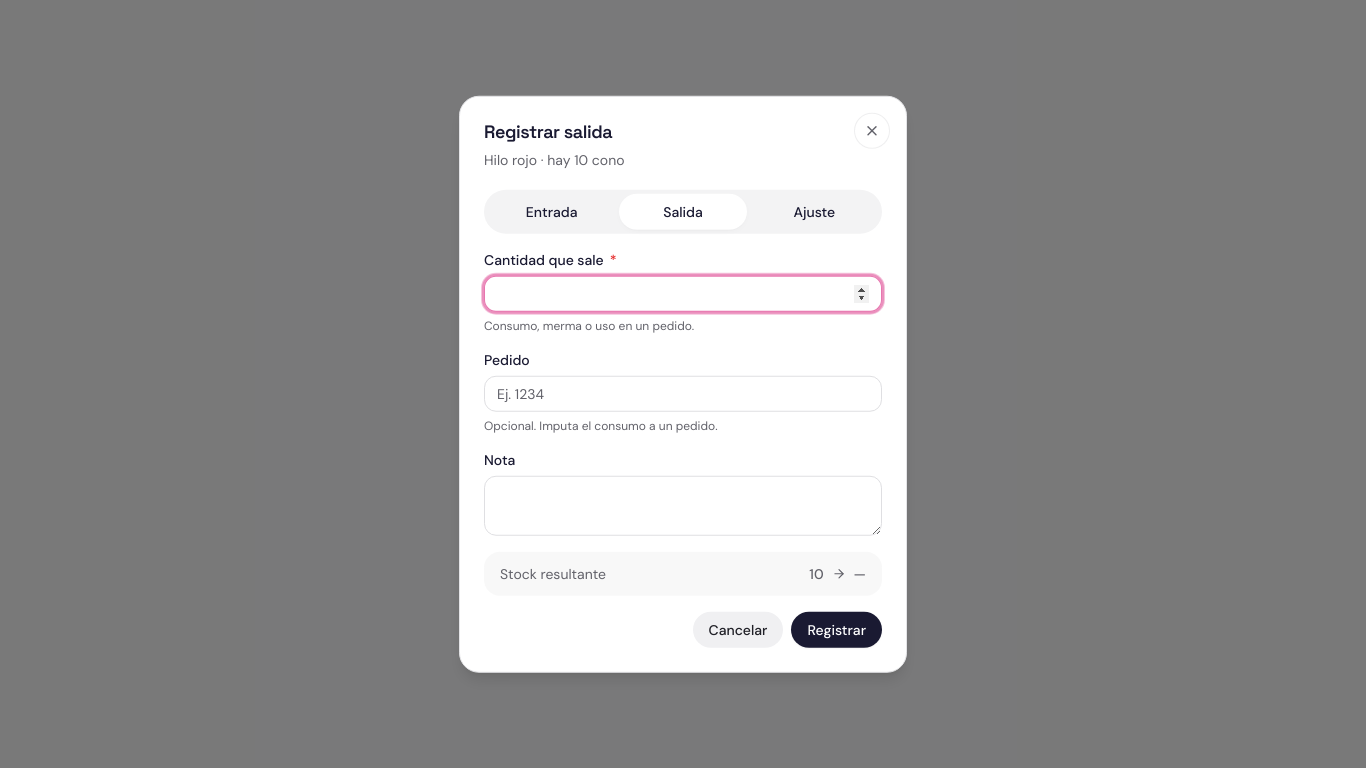
InventoryMovementDialog › no deja sacar más de lo que hay
Type "11" into the number field labelled "Cantidad que sale *". click: (683, 293)
box: [484,275,882,311]
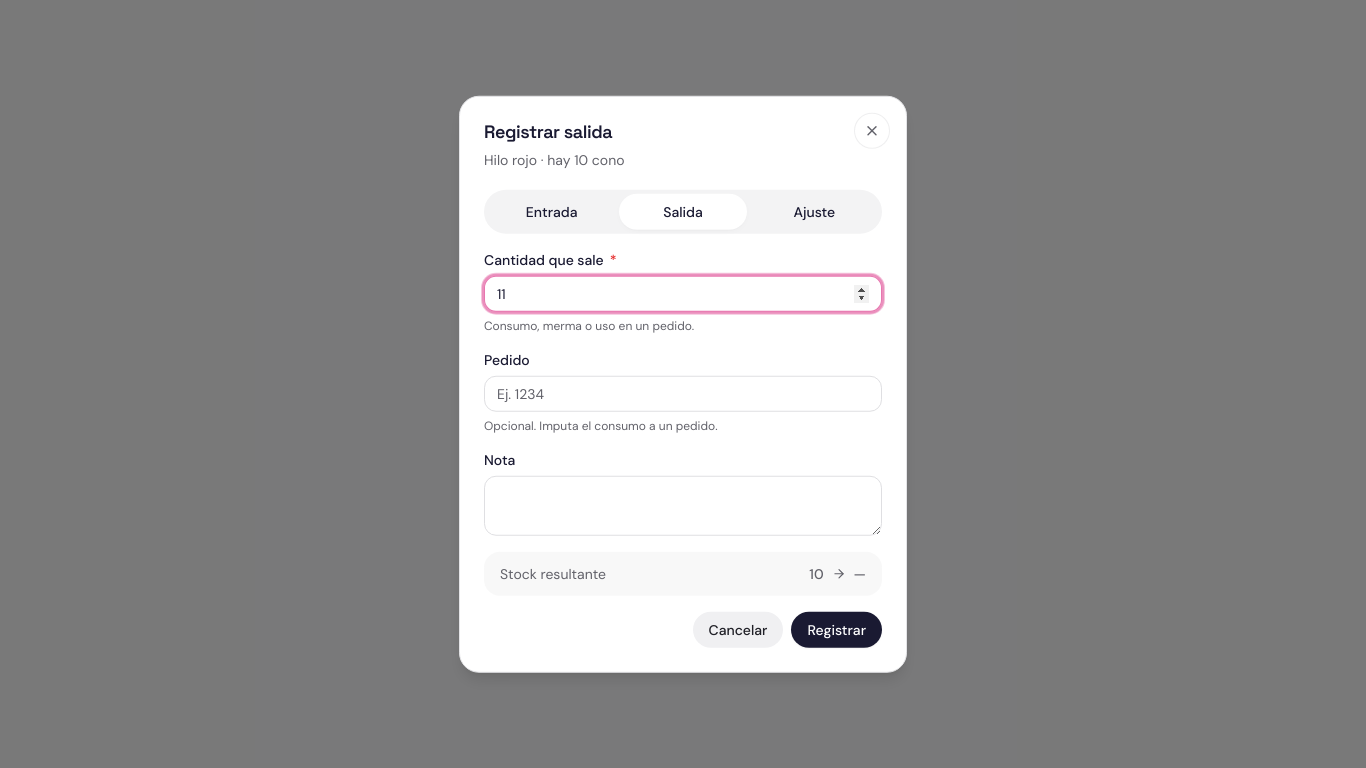
Click the button "Registrar". click: (837, 629)
box: [791,611,882,647]
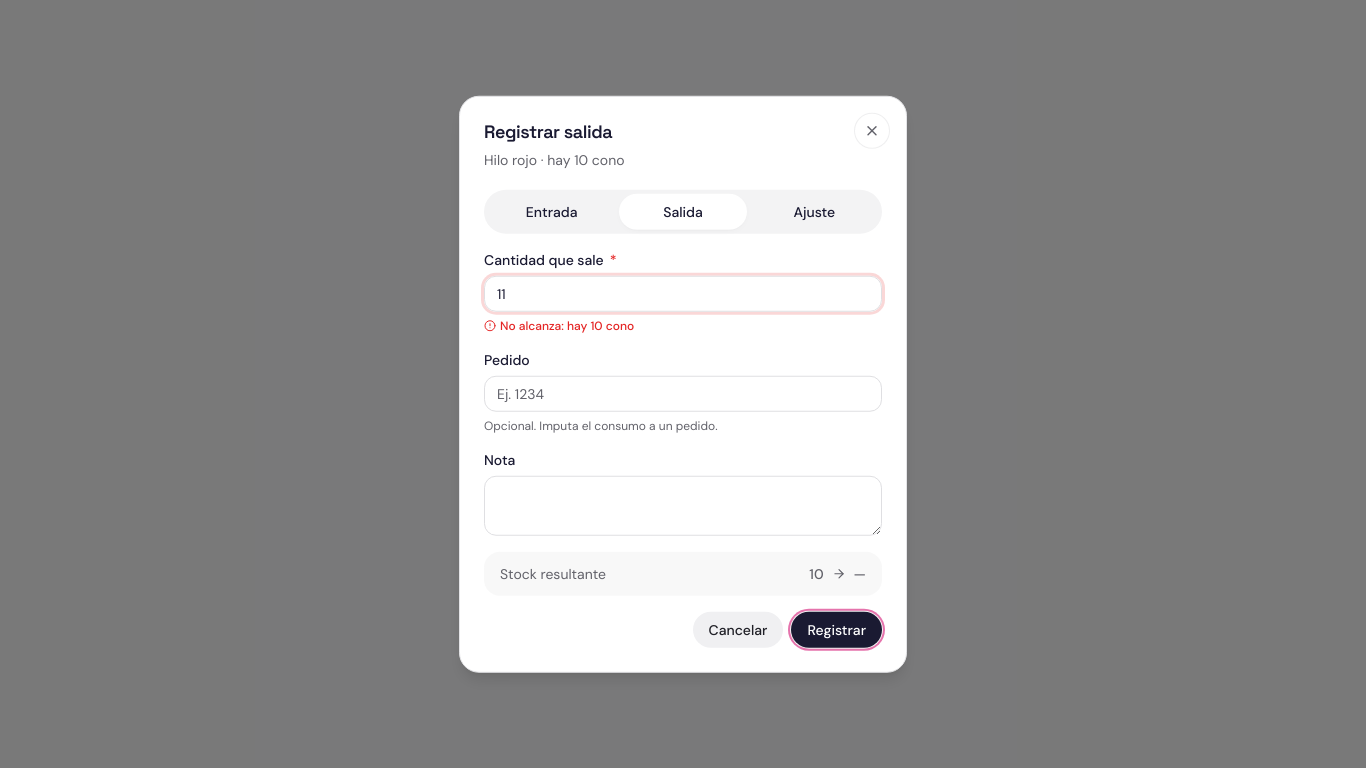
expect the text "No alcanza: hay 10 cono" is shown: met, box [484,317,634,333]
